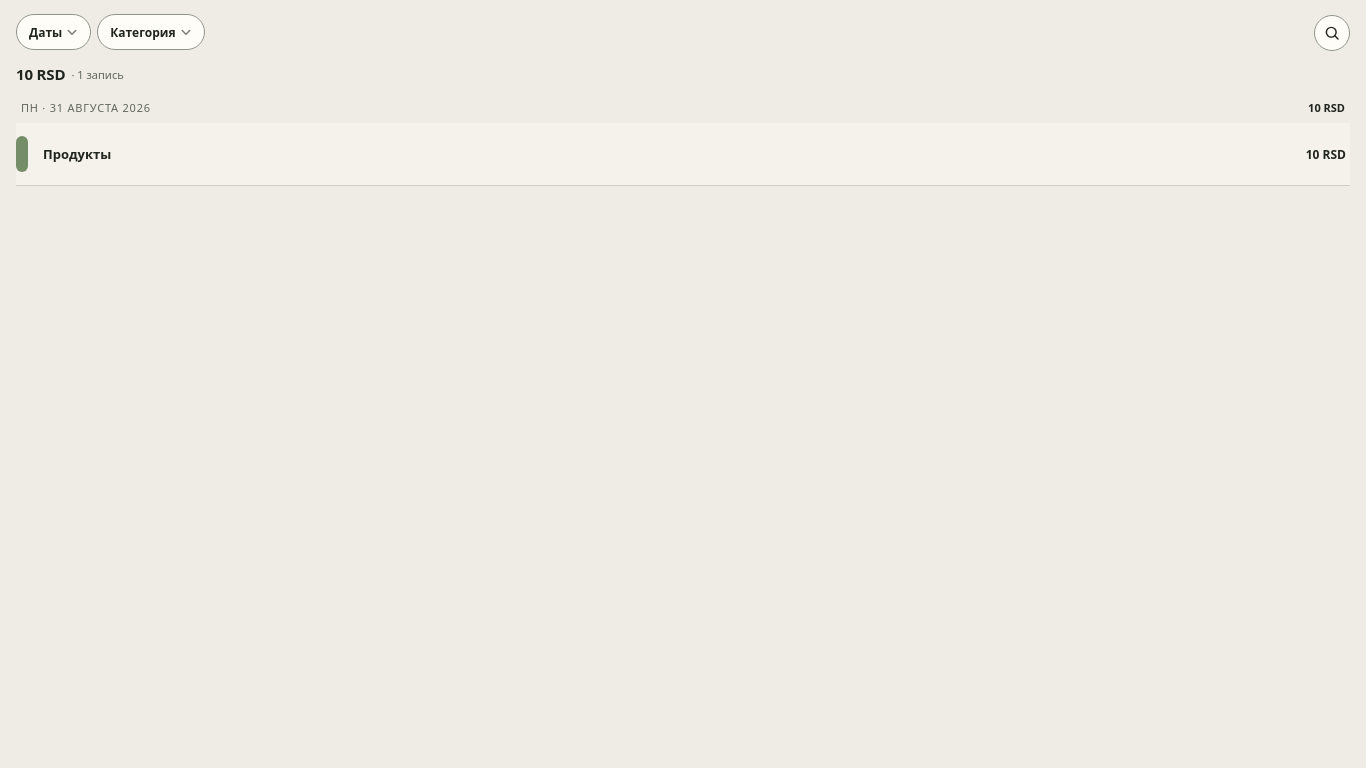
Test case: history totals › closes a filter sheet from its × and keeps «Все категории» checked while nothing is chosen
The width and height of the screenshot is (1366, 768).
Click the button with aria-label "Категория истории".
click(151, 32)  # box [97,14,205,50]
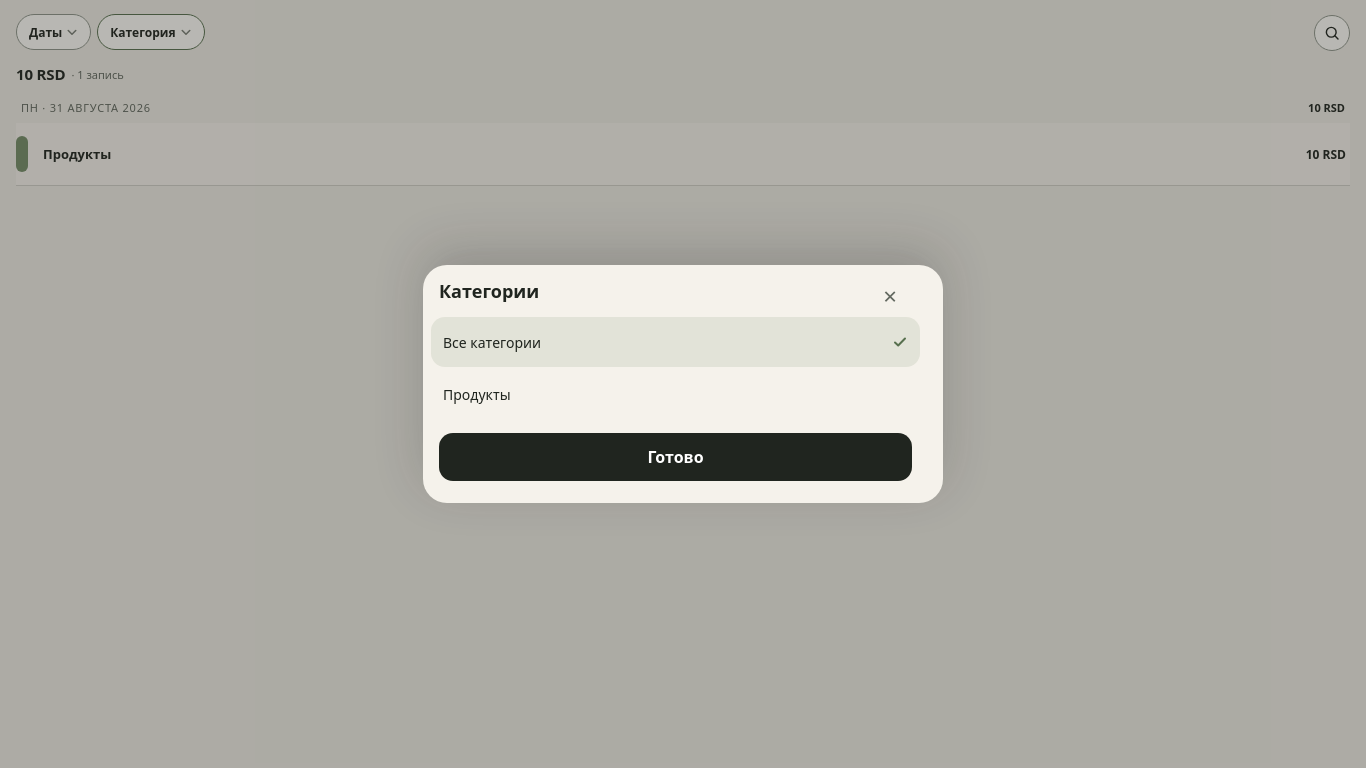
Click the button named "Закрыть".
click(890, 295)  # box [868,273,912,317]
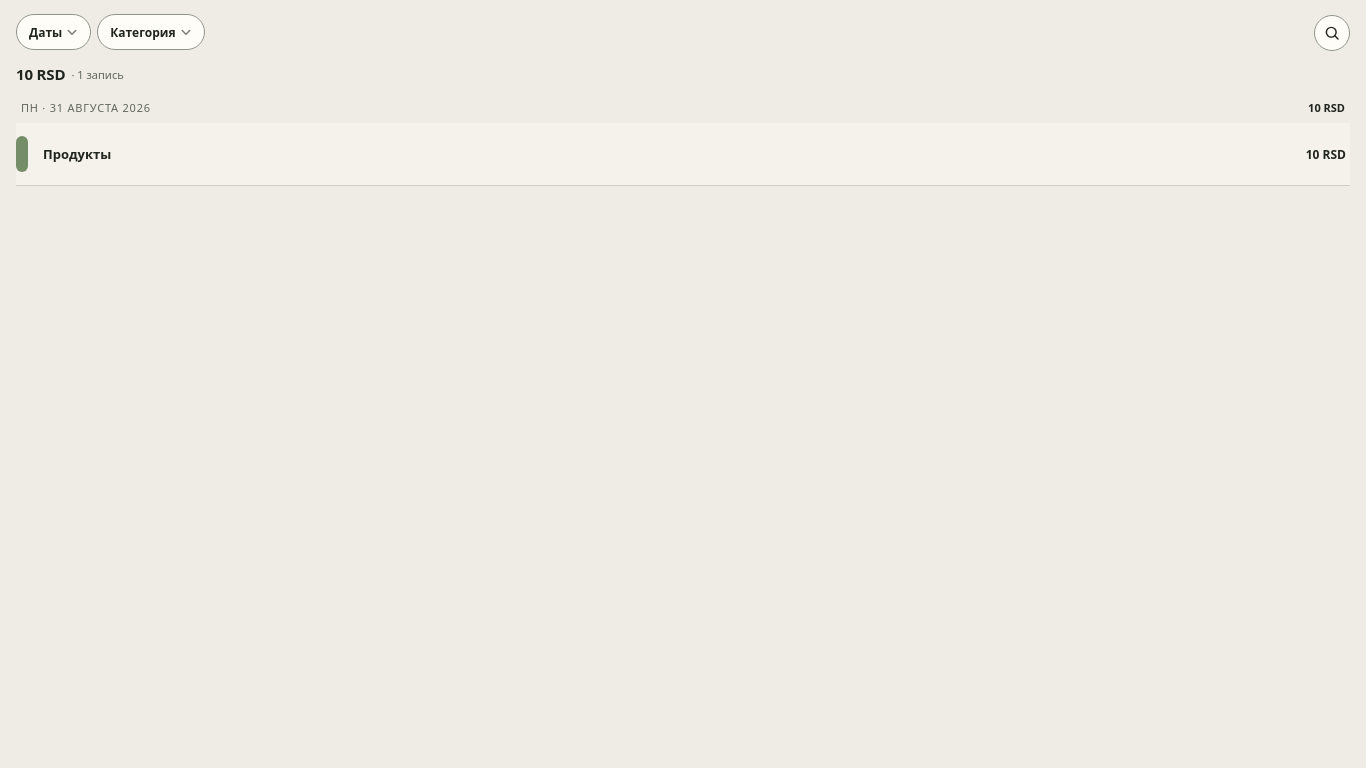
Check: the dialog is gone
